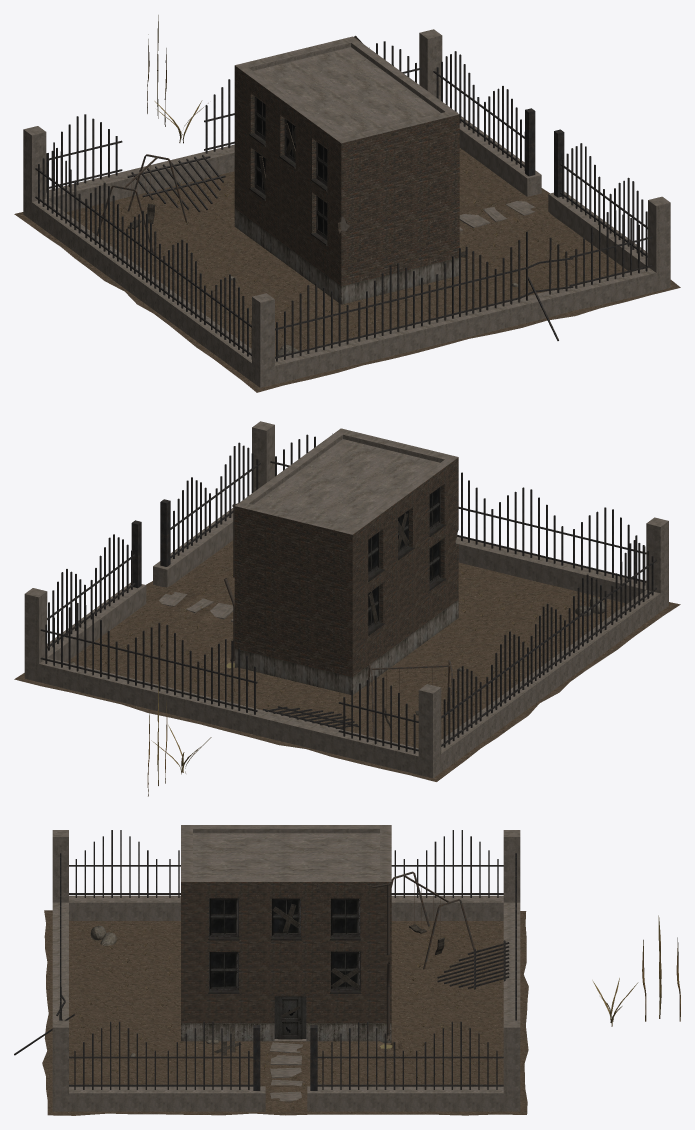
The model's file is abandoned_house.glb.
3 renders of one model, top to bottom at view 1: azimuth 30°, elevation 25°; view 2: azimuth 150°, elevation 25°; view 3: azimuth 270°, elevation 25°, orthographic.
Visible parts, largest first — view 1: House, Ground.001, ConcreteBase, doubleFence.001, doubleFence, Fence.010, Fence.002, Fence.008, Fence.013, Fence.004, Fence.015, Fence.014 (+9 smaller); view 2: House, Ground.001, ConcreteBase, doubleFence, doubleFence.001, Fence.005, Fence.012, Fence.010, Fence.003, Fence.004, Fence.013, Fence.002 (+9 smaller); view 3: Ground.001, House, ConcreteBase, doubleFence.001, doubleFence, Fence.006, Fence.013, Fence.012, Window.004, Window.001, Window.002, Door (+5 smaller).
Boxes of the visible parts, x1=… form: House: x1=234, y1=36, x2=459, y2=304; Ground.001: x1=14, y1=148, x2=680, y2=392; ConcreteBase: x1=23, y1=29, x2=670, y2=387; doubleFence.001: x1=433, y1=51, x2=524, y2=170; doubleFence: x1=560, y1=143, x2=647, y2=257; Fence.010: x1=352, y1=263, x2=435, y2=341; Fence.002: x1=275, y1=283, x2=353, y2=361; Fence.008: x1=569, y1=210, x2=652, y2=288; Fence.013: x1=35, y1=148, x2=83, y2=233; Fence.004: x1=46, y1=114, x2=122, y2=192; Fence.015: x1=160, y1=239, x2=208, y2=324; Fence.014: x1=82, y1=182, x2=130, y2=267; House: x1=234, y1=428, x2=458, y2=694; Ground.001: x1=14, y1=540, x2=680, y2=781; ConcreteBase: x1=24, y1=421, x2=668, y2=778; doubleFence: x1=170, y1=442, x2=260, y2=558; doubleFence.001: x1=47, y1=534, x2=135, y2=650; Fence.005: x1=122, y1=622, x2=204, y2=700; Fence.012: x1=609, y1=540, x2=656, y2=624; Fence.010: x1=486, y1=487, x2=568, y2=565; Fence.003: x1=40, y1=603, x2=122, y2=680; Fence.004: x1=338, y1=675, x2=418, y2=753; Fence.013: x1=441, y1=666, x2=484, y2=747; Fence.002: x1=568, y1=507, x2=646, y2=585; Ground.001: x1=42, y1=910, x2=528, y2=1115; House: x1=181, y1=825, x2=391, y2=1042; ConcreteBase: x1=52, y1=830, x2=520, y2=1111; doubleFence.001: x1=317, y1=1021, x2=503, y2=1089; doubleFence: x1=69, y1=1021, x2=253, y2=1089; Fence.006: x1=437, y1=940, x2=509, y2=989; Fence.013: x1=410, y1=830, x2=503, y2=897; Fence.012: x1=69, y1=830, x2=162, y2=897; Window.004: x1=330, y1=898, x2=360, y2=936; Window.001: x1=209, y1=952, x2=238, y2=990; Window.002: x1=209, y1=898, x2=238, y2=936; Door: x1=278, y1=996, x2=302, y2=1039.
Bounding box in the file's own units: 54.5 × 21.41 × 74.71.
15 materials, 14 textured.
